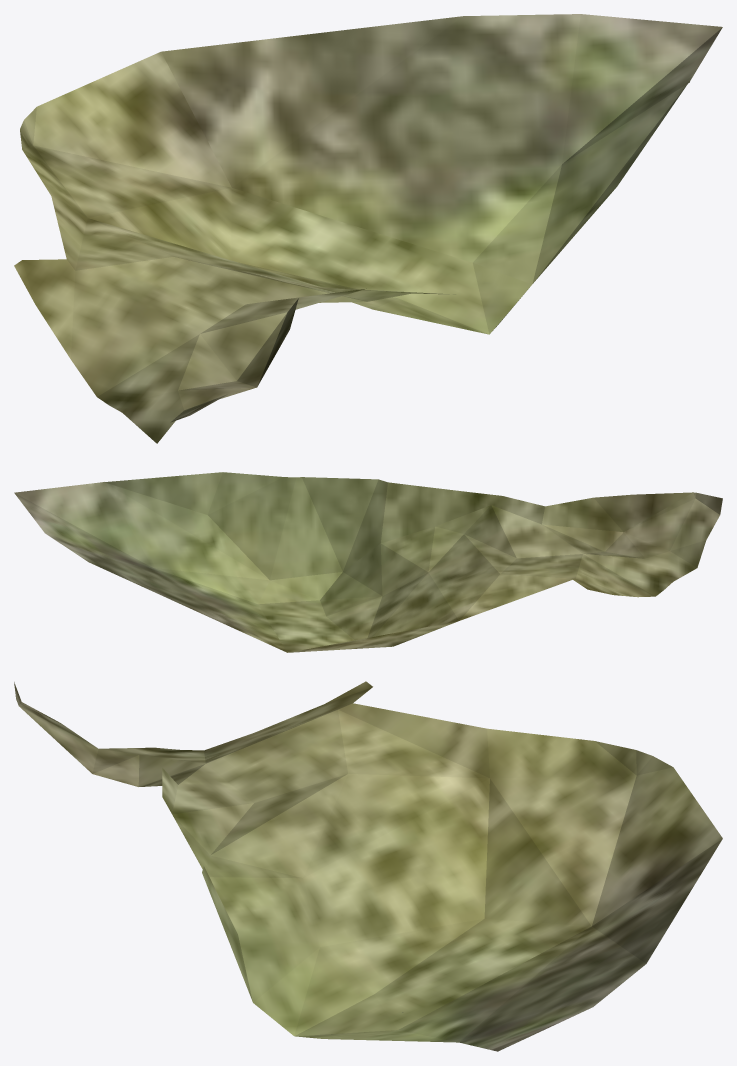
3 renders of one model, top to bottom at view 1: azimuth 30°, elevation 25°; view 2: azimuth 150°, elevation 25°; view 3: azimuth 270°, elevation 25°, orthographic. The views are drawn at different scales.
Size of the model in its own units: 1.73 by 0.3173 by 1.4.
Materials: 1 (1 with a texture image).
